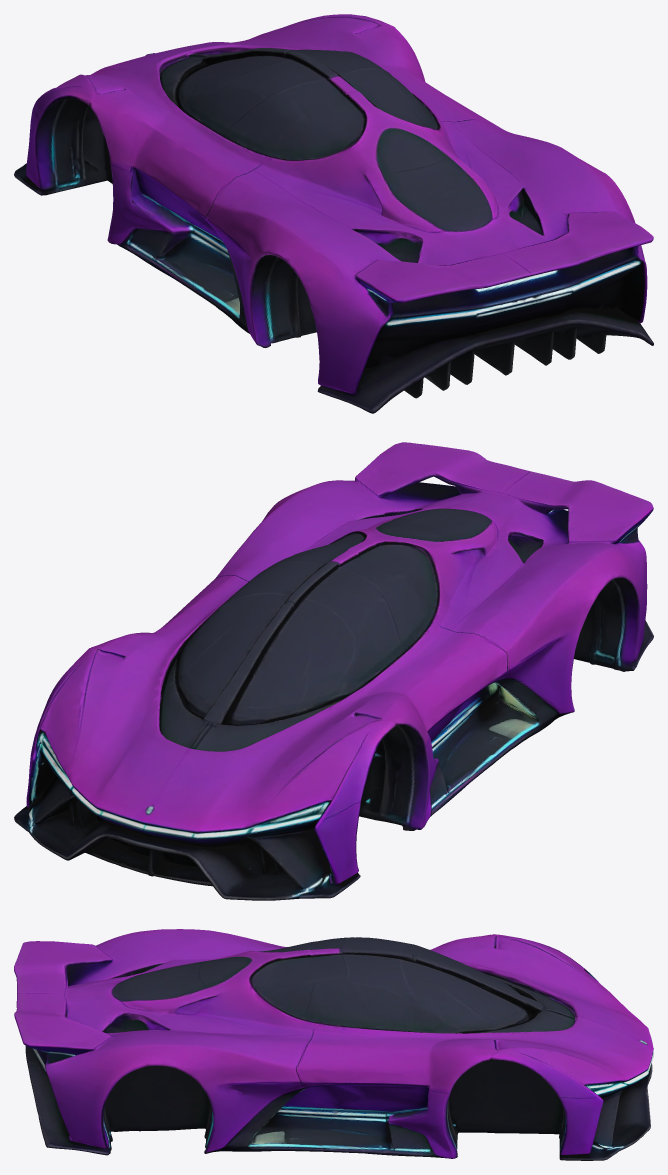
File: hypercar.glb
The picture shows the model from 3 angles, top to bottom: view 1: azimuth 30°, elevation 25°; view 2: azimuth 150°, elevation 25°; view 3: azimuth 270°, elevation 25°; orthographic projection. The views are drawn at different scales.
Parts seen in each view (by area): view 1: tripo_node_c9f10783-f05d-4404-9ef7-aa2b059e4c91; view 2: tripo_node_c9f10783-f05d-4404-9ef7-aa2b059e4c91; view 3: tripo_node_c9f10783-f05d-4404-9ef7-aa2b059e4c91.
Boxes of the visible parts, left/top/right/bottom form: tripo_node_c9f10783-f05d-4404-9ef7-aa2b059e4c91: left=14, top=14, right=653, bottom=413; tripo_node_c9f10783-f05d-4404-9ef7-aa2b059e4c91: left=14, top=442, right=653, bottom=900; tripo_node_c9f10783-f05d-4404-9ef7-aa2b059e4c91: left=14, top=929, right=653, bottom=1160.
Size of the model in its own units: 2.18 by 1.15 by 4.44.
Materials: 1 (1 with a texture image).
